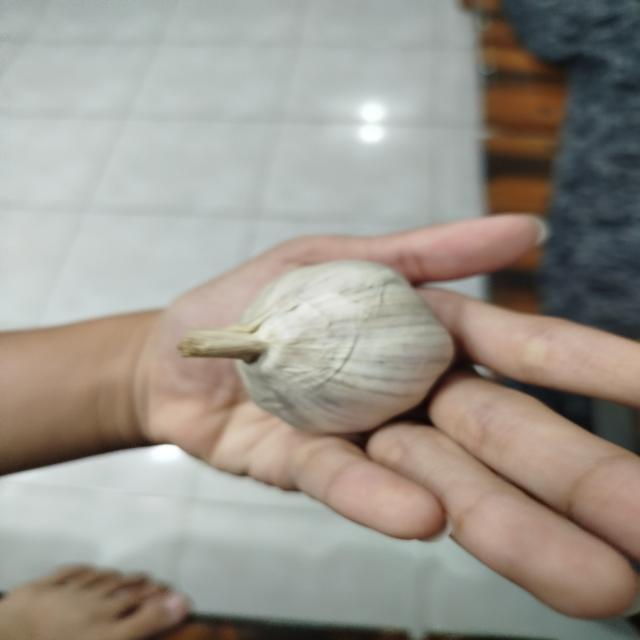garlic: (176, 258, 456, 436)
